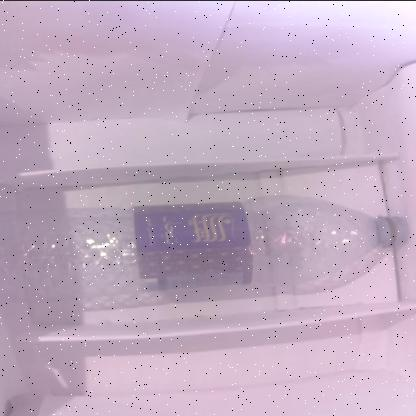Plastic Bottle: (0, 194, 409, 304)
